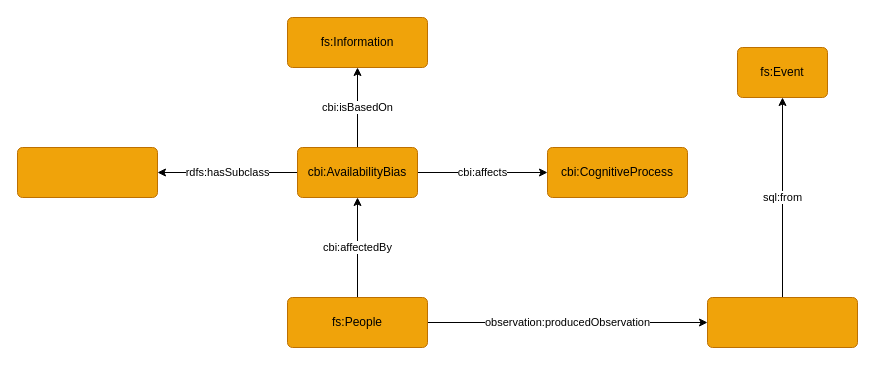
This 875x365 diagram has some shape labels left out. Each missing label, with the centre of its shape:
cbi:CognitiveBias: the point at 87,172
observation:Observation: the point at 782,322
